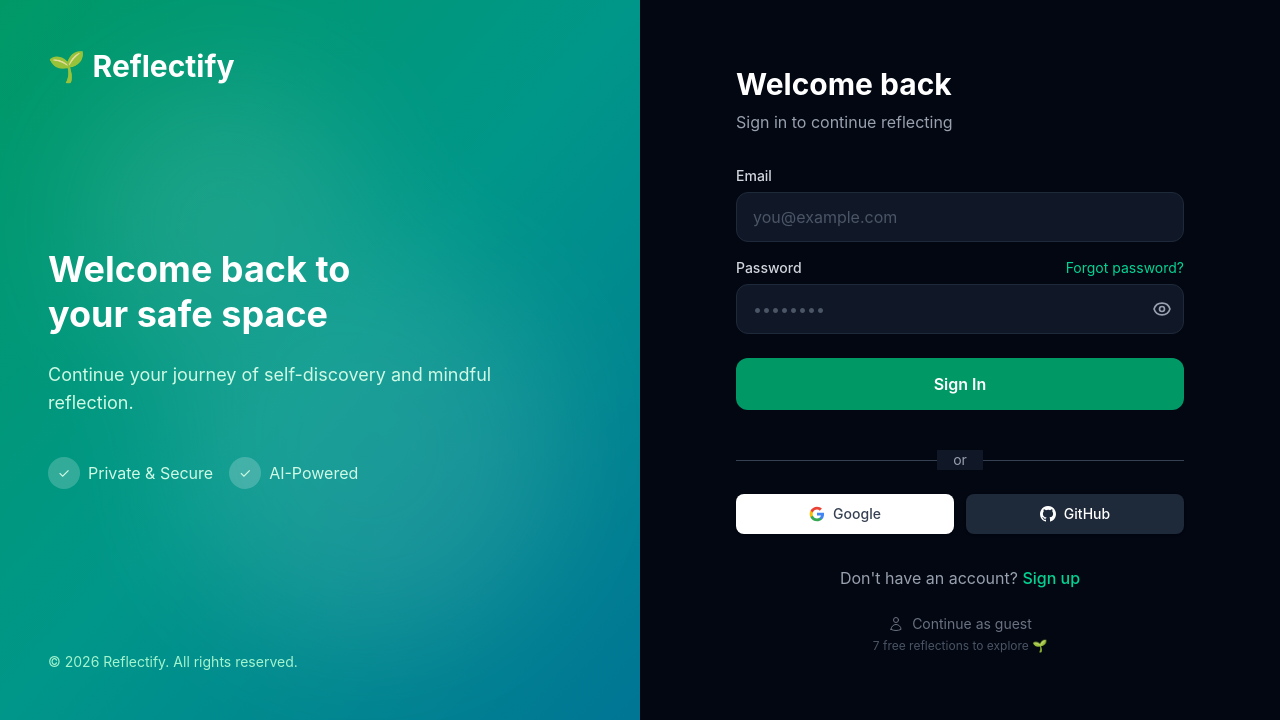
Authentication › Login Page › should show email validation error for invalid email
This screenshot has width=1280, height=720.
Type "invalid-email" into the field named "email" at (960, 217), box [736, 192, 1184, 242]
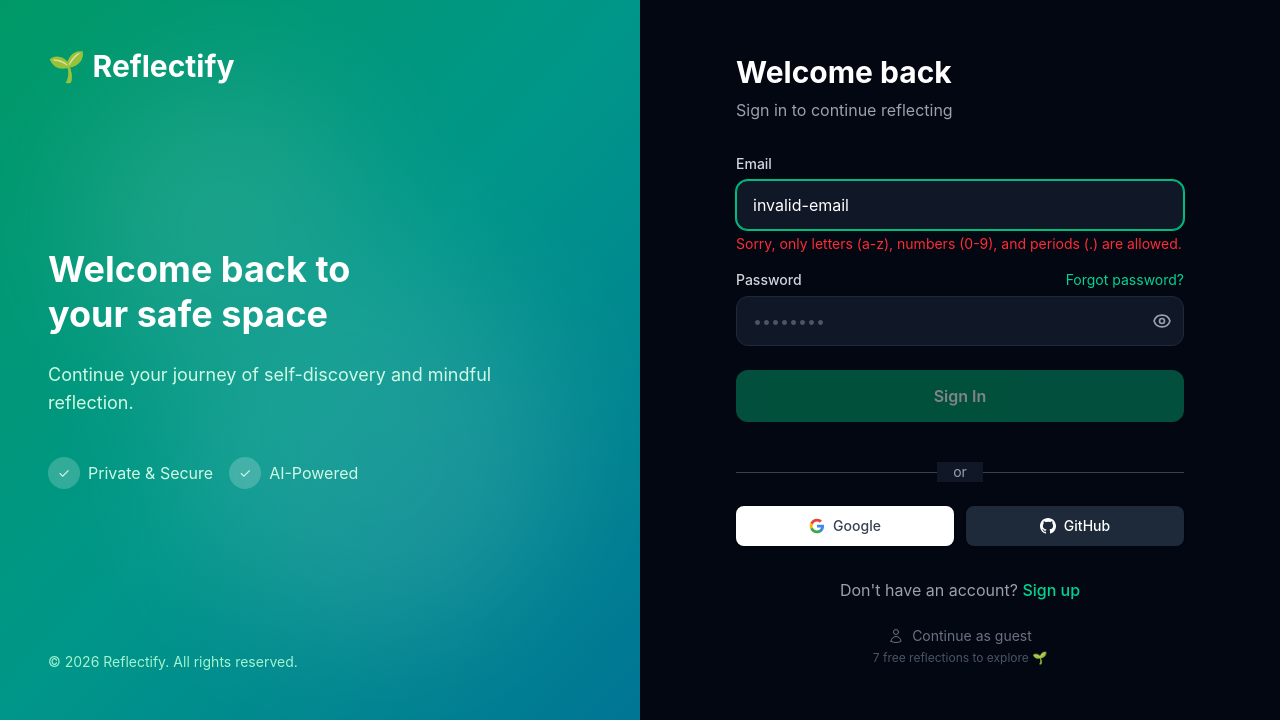
Result: the text "Sorry, only letters (a-z), numbers (0-9), and periods (.) are allowed." is shown at [736, 234, 1184, 254]
